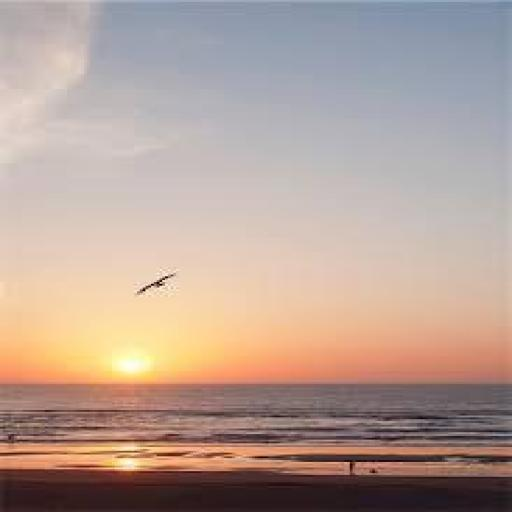birds: (127, 267, 179, 300)
